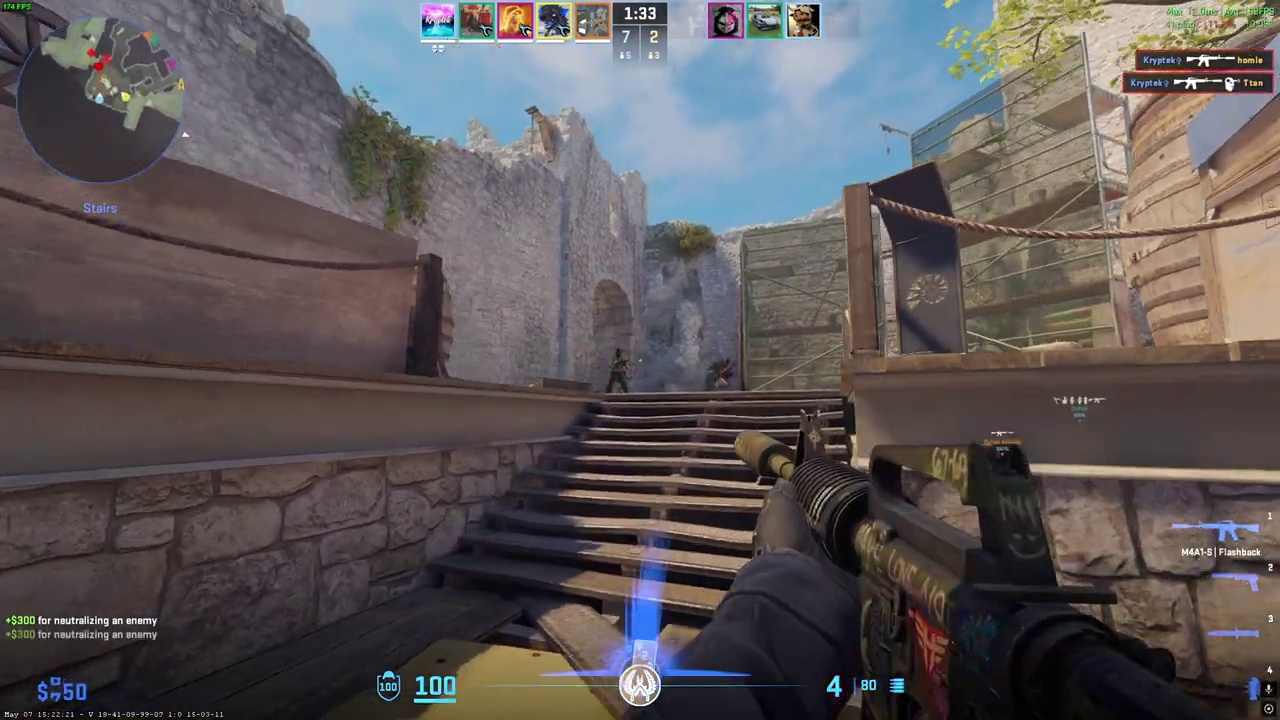Terrorist: (606, 348, 630, 393)
